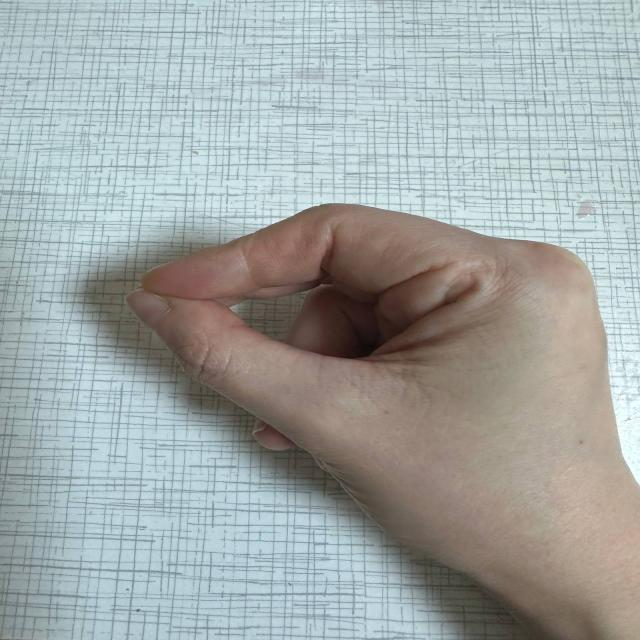ch: (100, 188, 600, 485)
